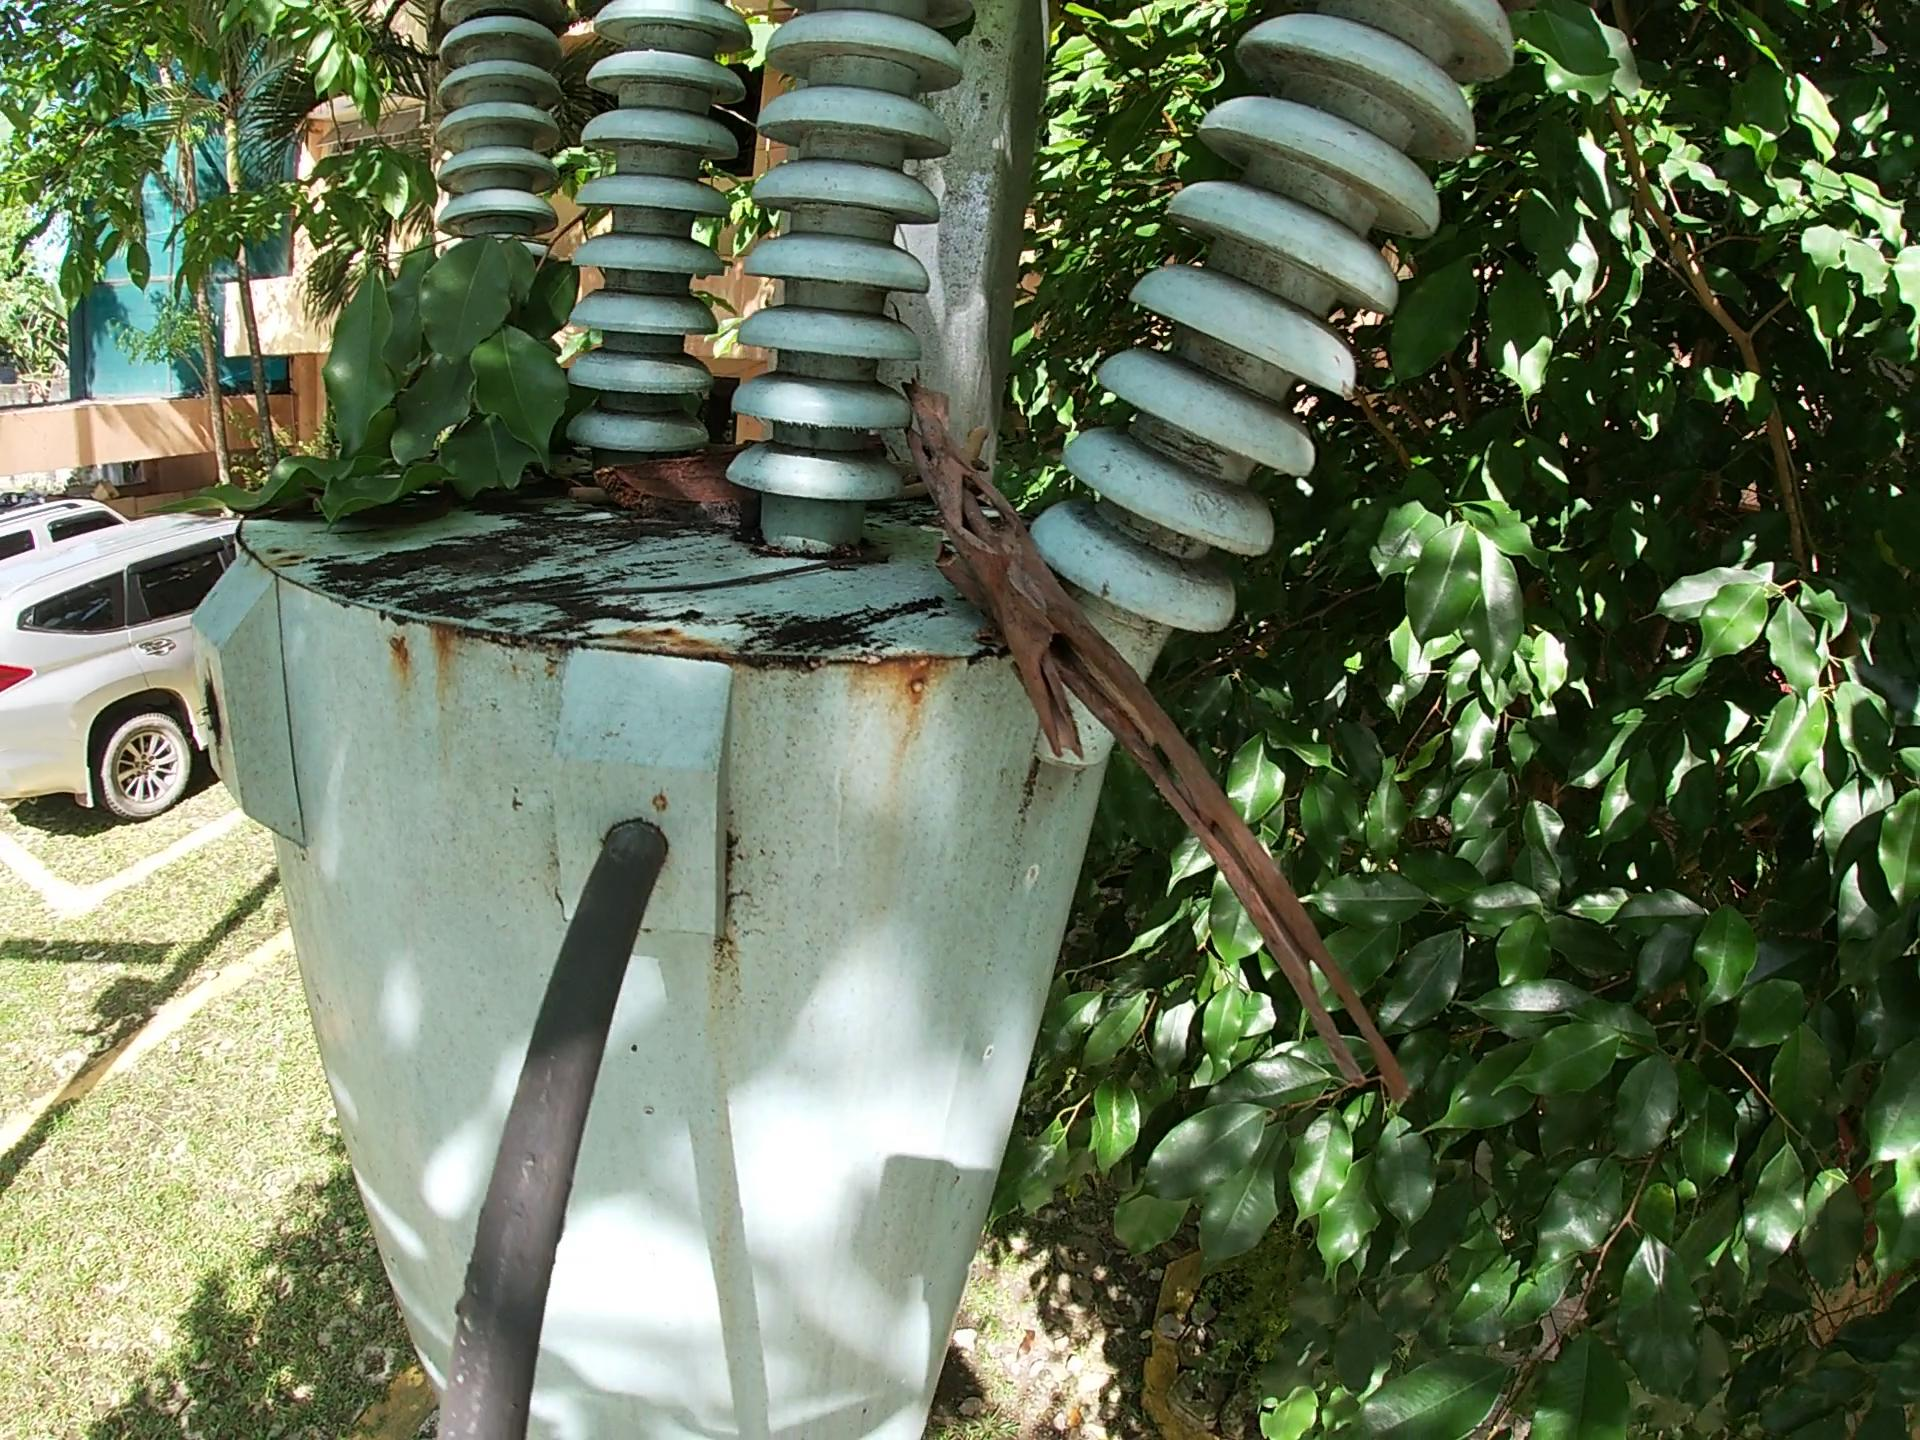branch with leaves: (147, 206, 600, 540)
mahogany fruit: (588, 433, 804, 520)
tree branch: (909, 352, 1445, 1142), (550, 537, 863, 604), (582, 519, 659, 564), (562, 483, 605, 508)
